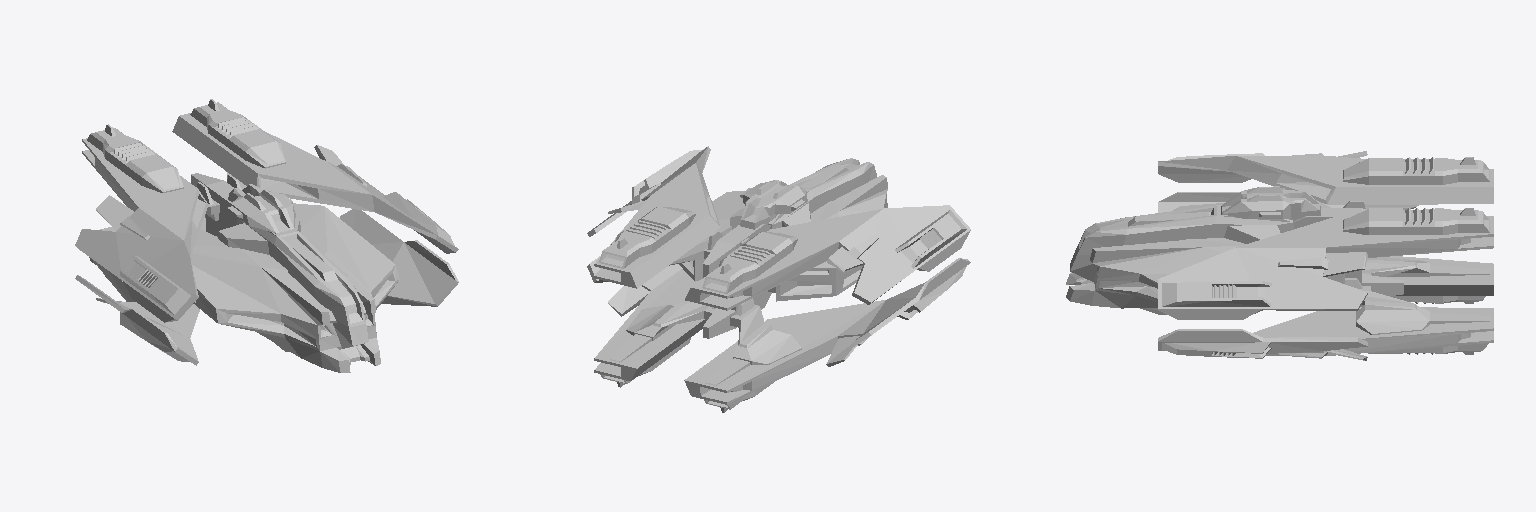
File: SF_Free-Fighter.obj
3 views of the same model, side by side, from view 1: azimuth 30°, elevation 25°; view 2: azimuth 150°, elevation 25°; view 3: azimuth 270°, elevation 25° (orthographic).
Visible parts, largest first — view 1: SF_Free-Fighter; view 2: SF_Free-Fighter; view 3: SF_Free-Fighter.
Part boxes in pixels (x1,y1,x2,y2): SF_Free-Fighter: (75,99,458,372); SF_Free-Fighter: (587,146,970,412); SF_Free-Fighter: (1066,151,1493,360).
Bounding box in the file's own units: 15.44 × 7.48 × 19.82.